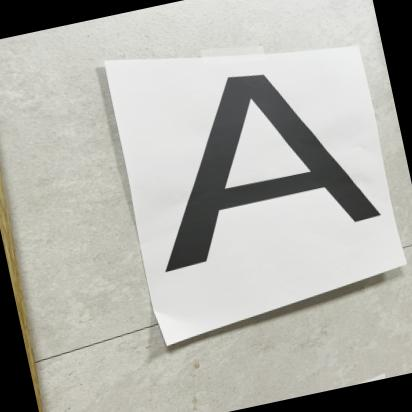seat: (60, 0, 412, 339)
